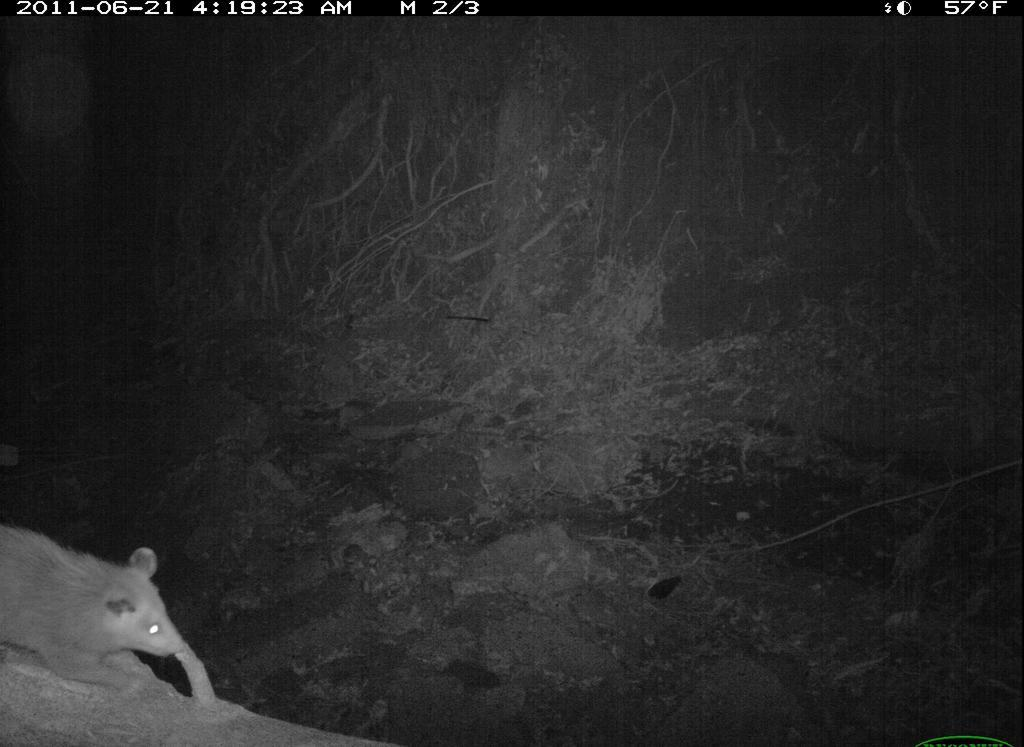opossum: (2, 505, 221, 725)
